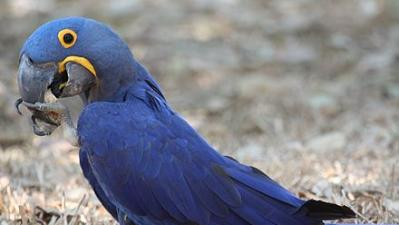guacamaya: (14, 15, 360, 225)
